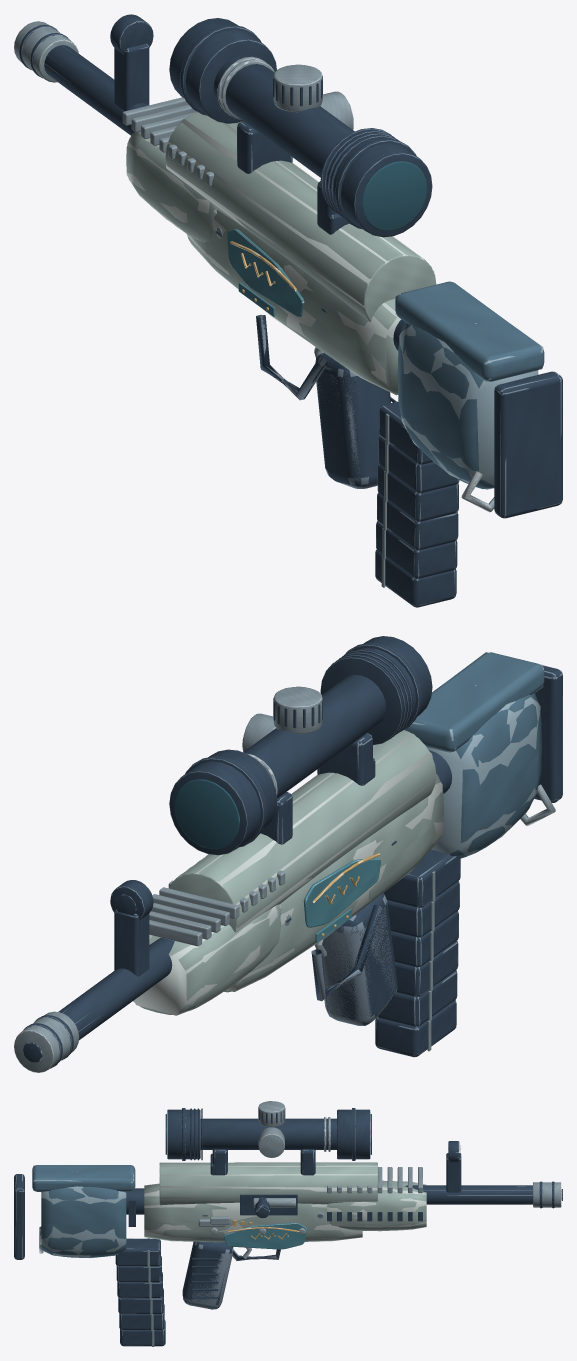
Rendered from anime-aug.glb.
3 views of the same model, one above another, from view 1: azimuth 30°, elevation 25°; view 2: azimuth 150°, elevation 25°; view 3: azimuth 270°, elevation 25° (orthographic). The views are drawn at different scales.
Visible parts, largest first — view 1: weapon_Weapon finish / Olive rifle finish, weapon_Parkerized steel, weapon_Polymer, weapon_Weapon finish / Polymer, magazine_Parkerized steel, World paint, weapon_Machined edges, World hardware, weapon_Coated scope glass, weapon_Inset blue ceramic, magazine_Machined edges; view 2: weapon_Weapon finish / Olive rifle finish, weapon_Parkerized steel, weapon_Weapon finish / Polymer, weapon_Polymer, magazine_Parkerized steel, World paint, World hardware, weapon_Machined edges, weapon_Coated scope glass, weapon_Inset blue ceramic, magazine_Machined edges; view 3: weapon_Weapon finish / Olive rifle finish, weapon_Parkerized steel, weapon_Weapon finish / Polymer, World paint, weapon_Polymer, magazine_Parkerized steel, weapon_Machined edges, World hardware, weapon_Inset blue ceramic, bolt_Machined edges.
Part boxes in pixels (x1=…): weapon_Weapon finish / Olive rifle finish: x1=126, y1=112, x2=436, y2=393; weapon_Parkerized steel: x1=44, y1=14, x2=431, y2=402; weapon_Polymer: x1=19, y1=25, x2=562, y2=518; weapon_Weapon finish / Polymer: x1=395, y1=281, x2=544, y2=488; magazine_Parkerized steel: x1=375, y1=401, x2=459, y2=607; World paint: x1=126, y1=118, x2=543, y2=489; weapon_Machined edges: x1=14, y1=21, x2=494, y2=512; World hardware: x1=14, y1=14, x2=562, y2=607; weapon_Coated scope glass: x1=362, y1=161, x2=427, y2=230; weapon_Inset blue ceramic: x1=227, y1=229, x2=304, y2=317; magazine_Machined edges: x1=381, y1=414, x2=389, y2=587; weapon_Weapon finish / Olive rifle finish: x1=133, y1=730, x2=443, y2=1014; weapon_Parkerized steel: x1=58, y1=636, x2=452, y2=1040; weapon_Weapon finish / Polymer: x1=404, y1=652, x2=544, y2=858; weapon_Polymer: x1=23, y1=643, x2=562, y2=1068; magazine_Parkerized steel: x1=375, y1=849, x2=460, y2=1056; World paint: x1=133, y1=652, x2=543, y2=1015; World hardware: x1=14, y1=636, x2=562, y2=1072; weapon_Machined edges: x1=14, y1=687, x2=555, y2=1072; weapon_Coated scope glass: x1=175, y1=779, x2=239, y2=849; weapon_Inset blue ceramic: x1=304, y1=858, x2=380, y2=942; magazine_Machined edges: x1=427, y1=871, x2=435, y2=1051; weapon_Weapon finish / Olive rifle finish: x1=144, y1=1162, x2=426, y2=1242; weapon_Parkerized steel: x1=126, y1=1109, x2=532, y2=1298; weapon_Weapon finish / Polymer: x1=32, y1=1165, x2=135, y2=1257; World paint: x1=33, y1=1162, x2=426, y2=1258; weapon_Polymer: x1=14, y1=1108, x2=562, y2=1309; magazine_Parkerized steel: x1=115, y1=1238, x2=165, y2=1346; weapon_Machined edges: x1=39, y1=1101, x2=561, y2=1248; World hardware: x1=14, y1=1101, x2=562, y2=1345; weapon_Inset blue ceramic: x1=224, y1=1223, x2=306, y2=1249; bolt_Machined edges: x1=253, y1=1198, x2=295, y2=1207.
Size of the model in its own units: 0.1329 by 0.4275 by 0.905.
10 materials, 7 textured.
